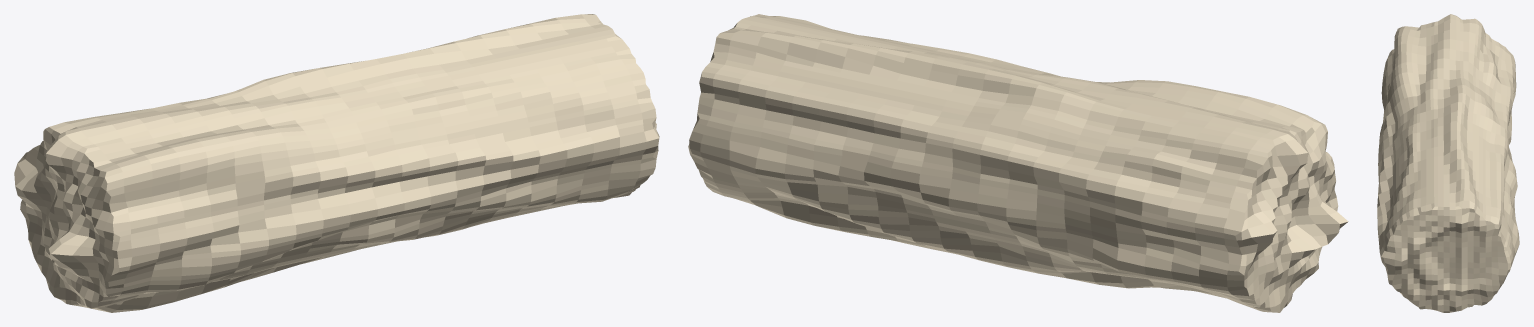
The model's file is Pempek Lenjer 1.fbx.
3 views of the same model, side by side, from view 1: azimuth 30°, elevation 25°; view 2: azimuth 150°, elevation 25°; view 3: azimuth 270°, elevation 25° (orthographic). The views are drawn at different scales.
Parts seen in each view (by area): view 1: Cylinder; view 2: Cylinder; view 3: Cylinder.
Boxes of the visible parts, x1,y1,x2,y2 form: Cylinder: [14, 14, 659, 312]; Cylinder: [688, 14, 1348, 312]; Cylinder: [1377, 14, 1519, 312].
Bounding box in the file's own units: 610 × 186 × 189.
